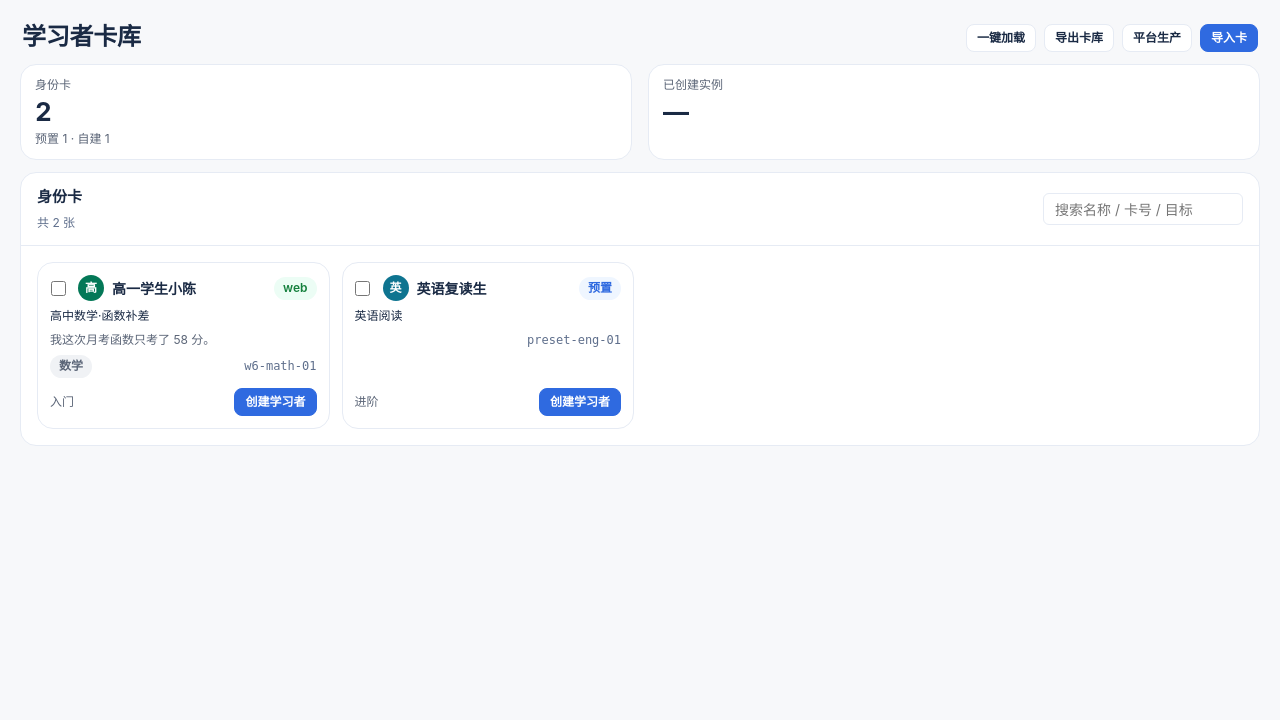
Test: 学习者卡库卡墙（2026-10-05 卡库改版 / 2026-10-06 二级页化） › 选角 → 勾任务 → 创建虚拟学习者（卡=身份模板，卡留在库里）
The image size is (1280, 720).
Step 1. Click the checkbox named "选择 高一学生小陈" → (58, 288), box [50, 281, 66, 296]
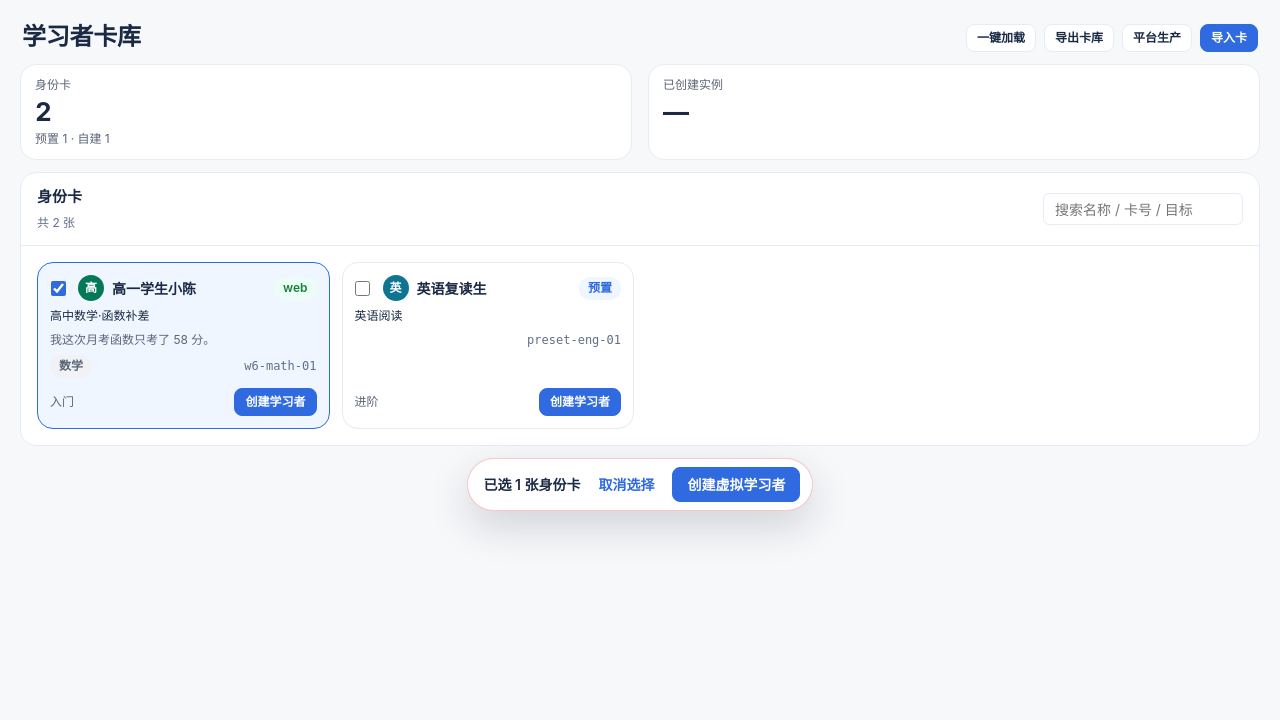
Step 2. Click the checkbox named "选择 英语复读生" → (362, 288), box [355, 281, 370, 296]
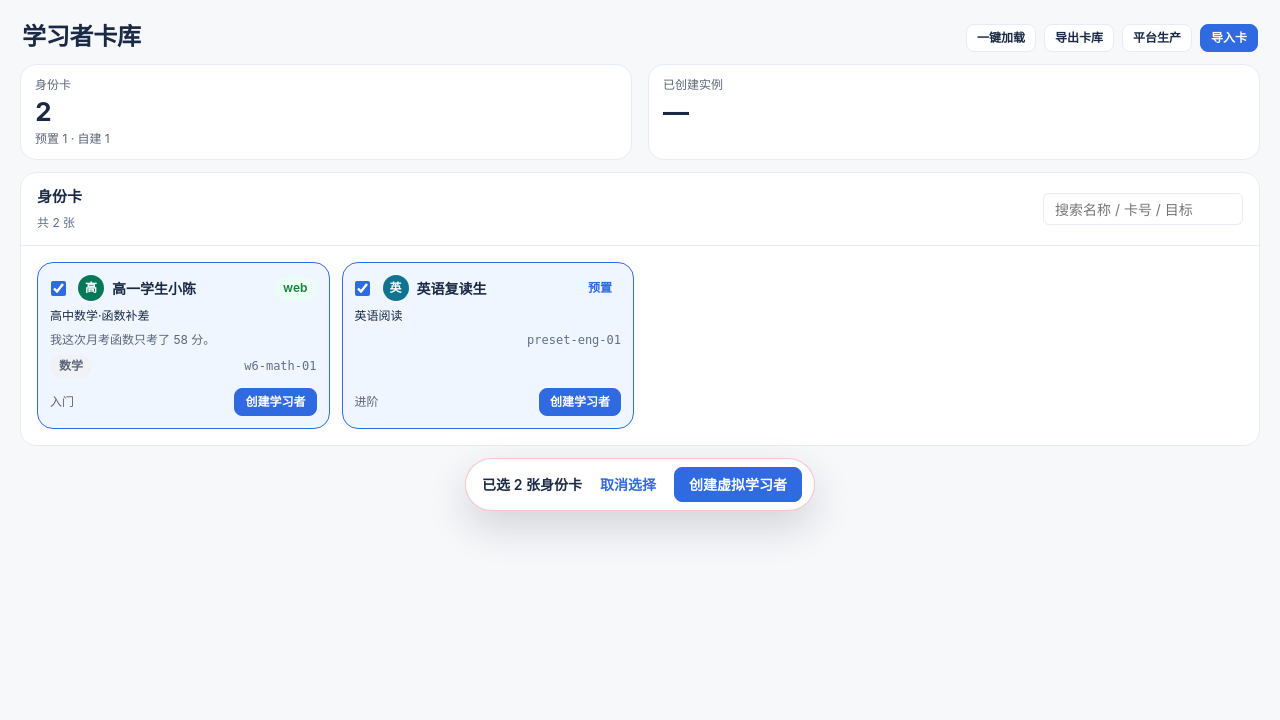
Now the element with class "mk-batchbar" is shown, box [465, 458, 815, 511]
Now the element with class "mk-batchbar" shows "已选 2 张身份卡", box [482, 476, 582, 493]
Step 3. Click the button "创建虚拟学习者" → (738, 484), box [674, 467, 802, 502]
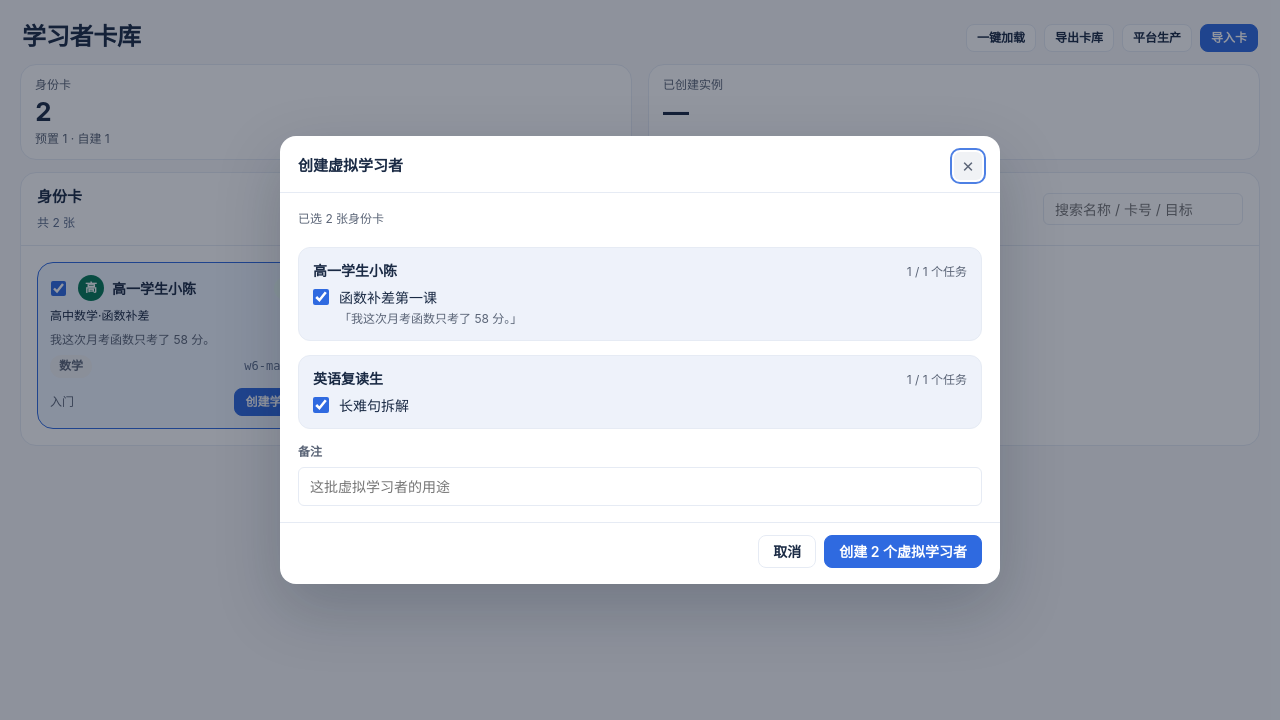
Step 4. Click the checkbox labelled "长难句拆解" → (321, 405), box [313, 397, 329, 413]
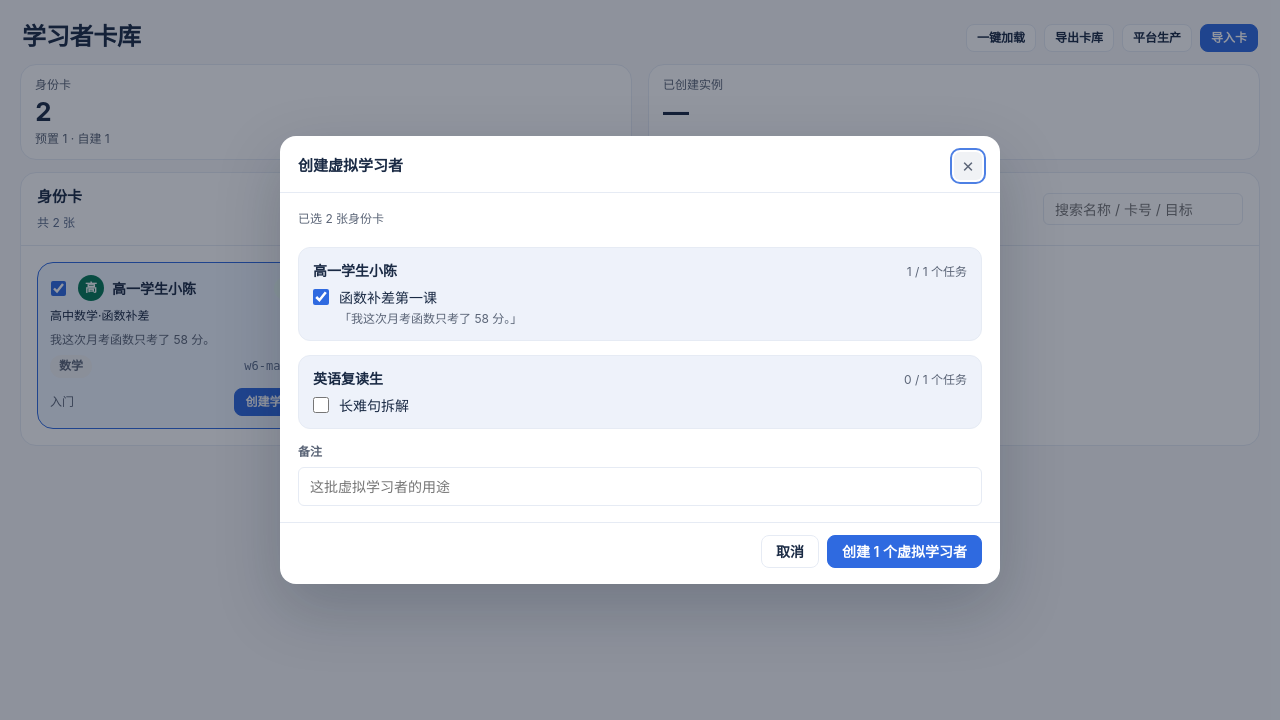
Now the button "创建 1 个虚拟学习者" is shown
Step 5. Click the button "创建 1 个虚拟学习者" → (904, 551), box [827, 535, 982, 568]
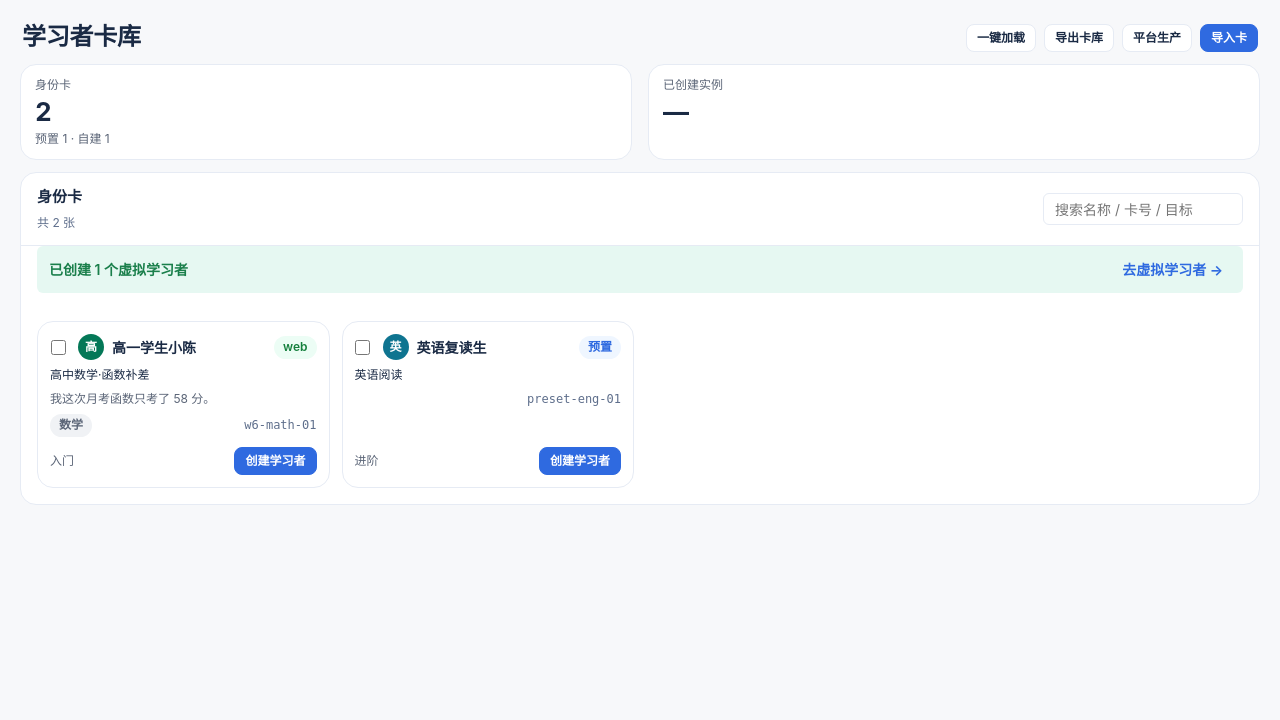
Now the message "已创建 1 个虚拟学习者 去虚拟学习者 →" is shown, box [37, 246, 1243, 293]
